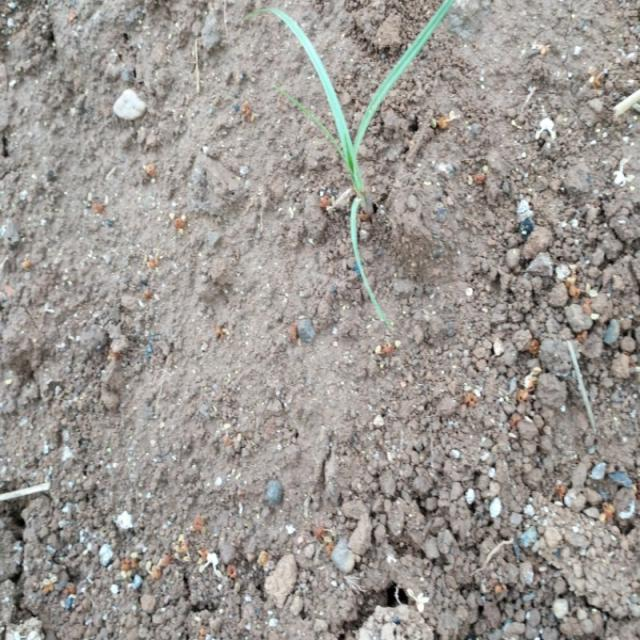sedge: (254, 0, 445, 368)
